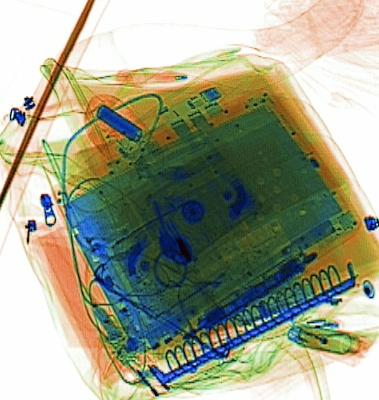lighter: (279, 322, 360, 366)
